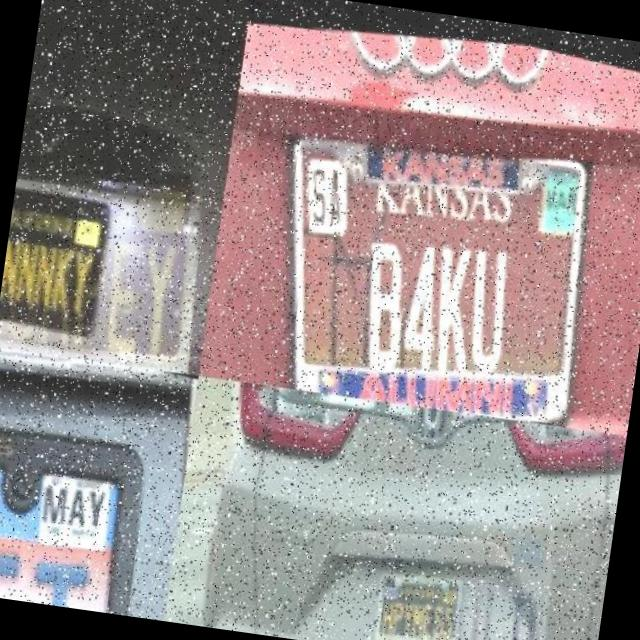LicensePlate: (298, 140, 587, 414), (0, 382, 194, 621), (0, 164, 132, 345), (372, 552, 482, 640)
